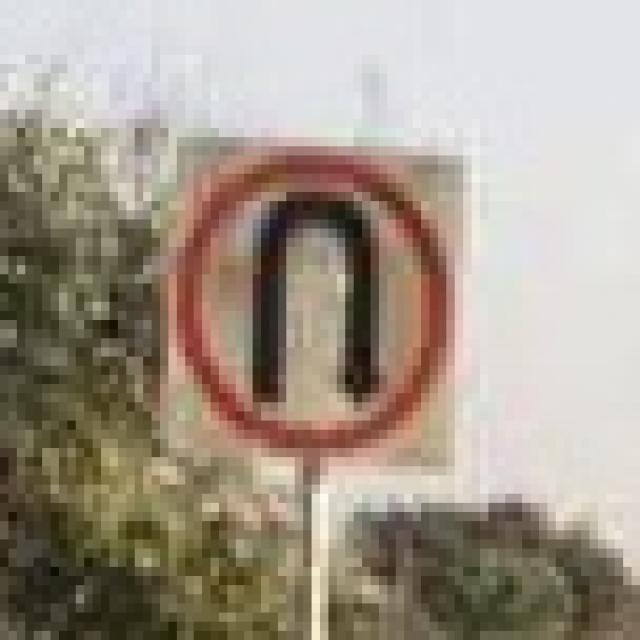u turn: (176, 136, 466, 483)
